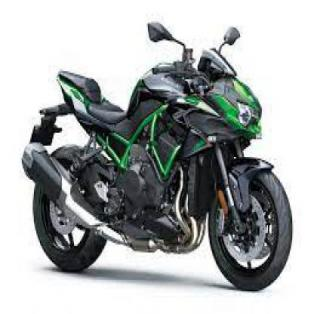Motocicleta: (17, 9, 296, 294)
